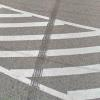Crosswalk: (6, 7, 98, 96)
